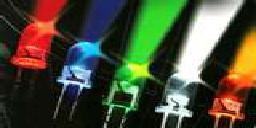LED: (56, 14, 102, 127), (103, 37, 149, 128), (150, 45, 199, 128), (10, 7, 54, 91), (209, 61, 255, 127)
